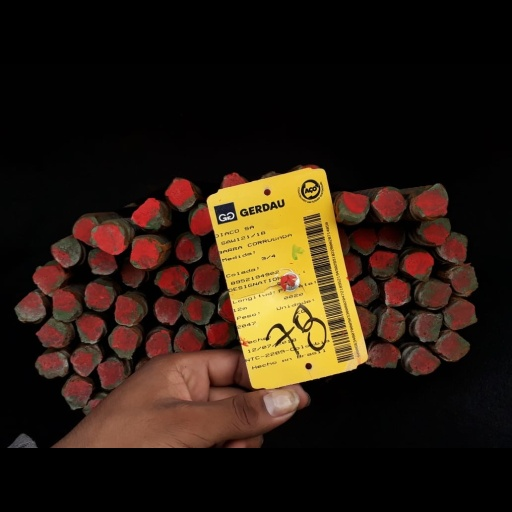dipstick: (372, 186, 406, 222), (412, 183, 448, 217), (92, 222, 125, 254), (108, 326, 138, 360), (154, 266, 189, 295), (33, 264, 65, 295), (131, 198, 163, 229), (436, 331, 470, 360), (401, 252, 434, 281), (14, 292, 45, 322), (71, 346, 101, 377), (445, 300, 476, 330), (337, 192, 369, 221), (438, 231, 467, 263), (131, 237, 160, 268), (166, 179, 195, 210), (183, 297, 215, 325), (378, 308, 406, 340), (407, 347, 440, 374), (36, 318, 66, 347), (192, 264, 220, 295), (418, 217, 450, 244), (64, 380, 93, 409), (115, 296, 144, 325), (350, 276, 378, 306), (206, 322, 237, 349), (175, 232, 202, 263), (53, 289, 79, 321), (35, 352, 67, 378), (76, 314, 104, 343), (85, 283, 114, 311), (449, 265, 477, 294), (51, 240, 81, 267), (98, 358, 125, 388), (174, 326, 205, 352), (155, 297, 183, 325), (416, 313, 443, 341), (384, 278, 411, 306), (189, 205, 214, 235), (367, 343, 397, 368), (370, 252, 399, 277), (73, 218, 97, 248), (349, 229, 377, 254), (422, 281, 450, 306), (146, 330, 172, 356), (89, 250, 117, 274), (377, 225, 405, 249), (356, 306, 376, 337), (218, 290, 236, 322), (122, 264, 145, 287), (343, 254, 361, 280), (221, 173, 245, 187)
